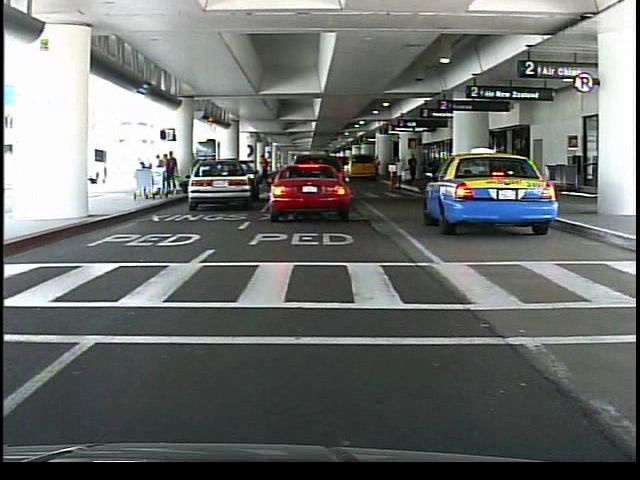person: (322, 155, 337, 202), (168, 150, 182, 200), (259, 154, 275, 192), (394, 153, 409, 190), (307, 165, 319, 202), (410, 154, 420, 185)
